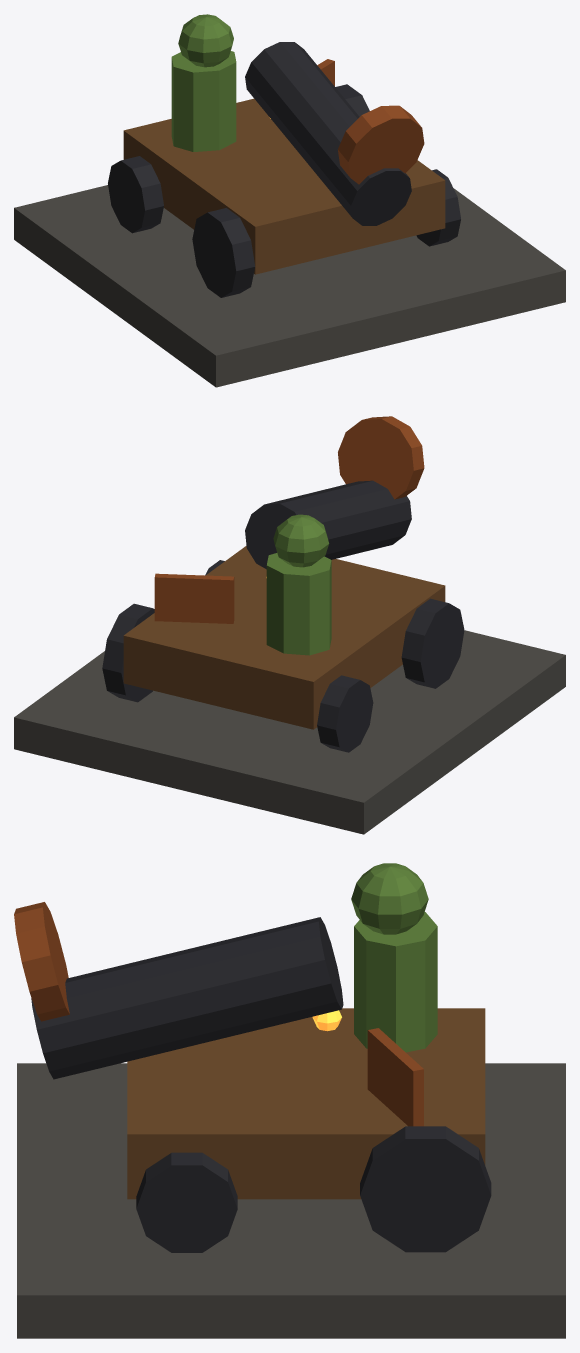
The model's file is orc_junk_cannon.glb.
The picture shows the model from 3 angles, top to bottom: view 1: azimuth 30°, elevation 25°; view 2: azimuth 150°, elevation 25°; view 3: azimuth 270°, elevation 25°; orthographic projection. The views are drawn at different scales.
Visible parts, largest first — view 1: Base, Cart, Tube, GunnerBody, Muzzle, Wheel0, Wheel2, GunnerHead, Wheel1, Wheel3; view 2: Base, Cart, Tube, GunnerBody, Muzzle, Wheel0, ScrapPlate, Wheel2, Wheel3, GunnerHead; view 3: Base, Cart, Tube, Wheel3, GunnerBody, Wheel1, Muzzle, GunnerHead, ScrapPlate.
Part boxes in pixels (bbox=[...]): Base: bbox=[14, 185, 565, 387]; Cart: bbox=[123, 98, 445, 274]; Tube: bbox=[245, 42, 411, 225]; GunnerBody: bbox=[171, 51, 236, 151]; Muzzle: bbox=[338, 105, 424, 184]; Wheel0: bbox=[192, 208, 255, 297]; Wheel2: bbox=[108, 156, 163, 233]; GunnerHead: bbox=[178, 14, 233, 67]; Wheel1: bbox=[416, 169, 460, 246]; Wheel3: bbox=[335, 84, 369, 116]; Base: bbox=[14, 630, 565, 834]; Cart: bbox=[123, 546, 445, 729]; Tube: bbox=[245, 480, 411, 569]; GunnerBody: bbox=[266, 553, 331, 655]; Muzzle: bbox=[338, 416, 424, 499]; Wheel0: bbox=[401, 598, 464, 688]; ScrapPlate: bbox=[154, 573, 234, 623]; Wheel2: bbox=[317, 675, 373, 752]; Wheel3: bbox=[102, 603, 154, 702]; GunnerHead: bbox=[273, 514, 329, 567]; Base: bbox=[17, 1063, 565, 1338]; Cart: bbox=[127, 1008, 485, 1199]; Tube: bbox=[31, 917, 343, 1079]; Wheel3: bbox=[360, 1126, 491, 1252]; GunnerBody: bbox=[354, 912, 437, 1052]; Wheel1: bbox=[136, 1152, 237, 1252]; Muzzle: bbox=[14, 902, 69, 1021]; GunnerHead: bbox=[351, 863, 428, 934]; ScrapPlate: bbox=[367, 1028, 423, 1126].
Size of the model in its own units: 1.84 by 1.2 by 1.85.
